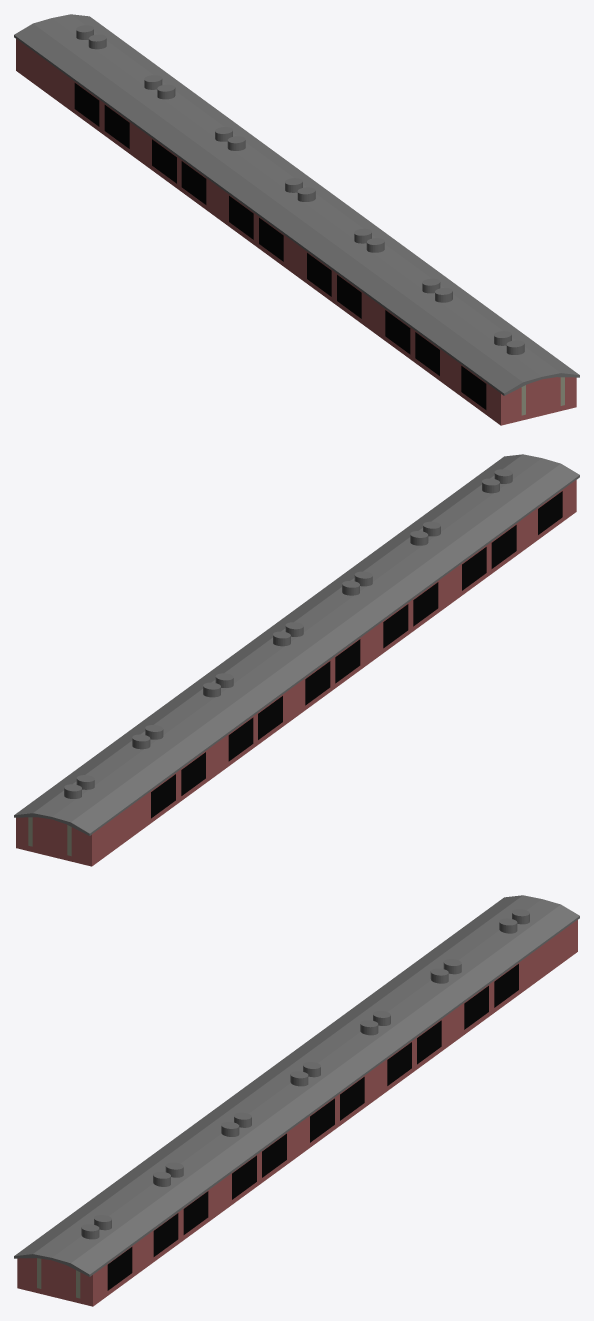
The model's file is mr-addon-clerestory.dae.
The picture shows the model from 3 angles, top to bottom: view 1: azimuth 30°, elevation 25°; view 2: azimuth 150°, elevation 25°; view 3: azimuth 330°, elevation 25°; orthographic projection.
Parts seen in each view (by area): view 1: Cube_018, Cube, Plane_376, Plane_382, Plane_384, Plane_374, Plane_381, Plane_375, Plane_377, Plane_378, Plane_379, Plane_380 (+1 smaller); view 2: Cube_018, Cube, Plane_379, Plane_380, Plane_383, Plane_375, Plane_377, Plane_378, Plane_374, Plane_384, Plane_376, Plane_381 (+1 smaller); view 3: Cube_018, Cube, Plane_368, Plane_369, Plane_373, Plane_354, Plane_357, Plane_358, Plane_361, Plane_364, Plane_365, Plane_359 (+1 smaller).
Boxes of the visible parts, x1,y1,x2,y2 form: Cube_018: [14, 14, 579, 395]; Cube: [16, 38, 576, 425]; Plane_376: [385, 310, 410, 354]; Plane_382: [104, 105, 129, 148]; Plane_384: [74, 83, 99, 126]; Plane_374: [461, 366, 486, 409]; Plane_381: [181, 161, 206, 204]; Plane_375: [415, 332, 439, 375]; Plane_377: [307, 253, 331, 296]; Plane_378: [337, 275, 361, 318]; Plane_379: [259, 218, 283, 261]; Plane_380: [229, 196, 253, 239]; Cube_018: [14, 454, 579, 835]; Cube: [16, 480, 576, 866]; Plane_379: [335, 639, 360, 683]; Plane_380: [305, 661, 330, 705]; Plane_383: [228, 717, 253, 761]; Plane_375: [491, 525, 516, 568]; Plane_377: [383, 604, 408, 648]; Plane_378: [413, 582, 438, 626]; Plane_374: [538, 491, 562, 534]; Plane_384: [151, 774, 175, 818]; Plane_376: [462, 547, 486, 590]; Plane_381: [258, 696, 282, 739]; Cube_018: [14, 895, 579, 1276]; Cube: [17, 919, 577, 1306]; Plane_368: [183, 1191, 208, 1234]; Plane_369: [153, 1213, 178, 1256]; Plane_373: [107, 1247, 132, 1290]; Plane_354: [494, 964, 518, 1007]; Plane_357: [417, 1020, 441, 1064]; Plane_358: [464, 986, 488, 1029]; Plane_361: [310, 1098, 334, 1142]; Plane_364: [232, 1155, 256, 1199]; Plane_365: [262, 1133, 286, 1177]; Plane_359: [387, 1042, 411, 1085].
Bounding box in the file's own units: 0.7054 × 7.85 × 0.4395.
